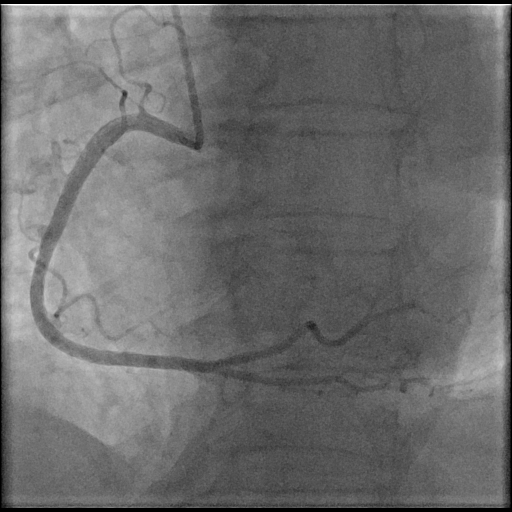RCA: (31, 112, 414, 390)
catherter: (173, 8, 203, 137)
